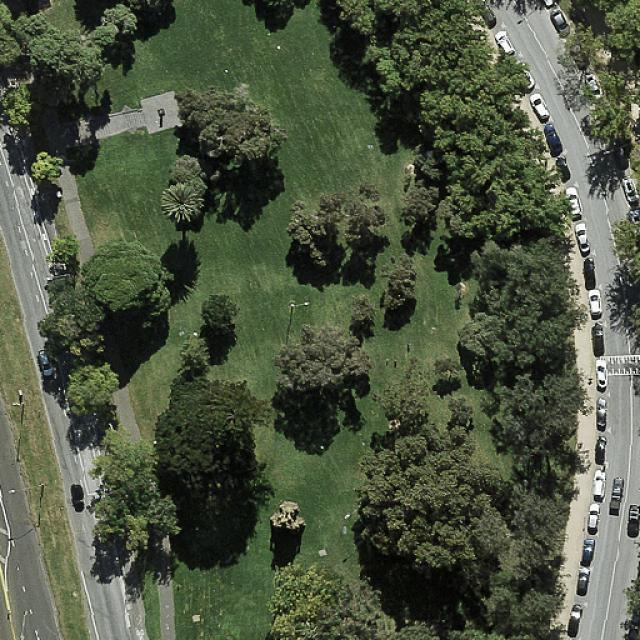Bike-Symbols: (136, 629, 145, 639)
